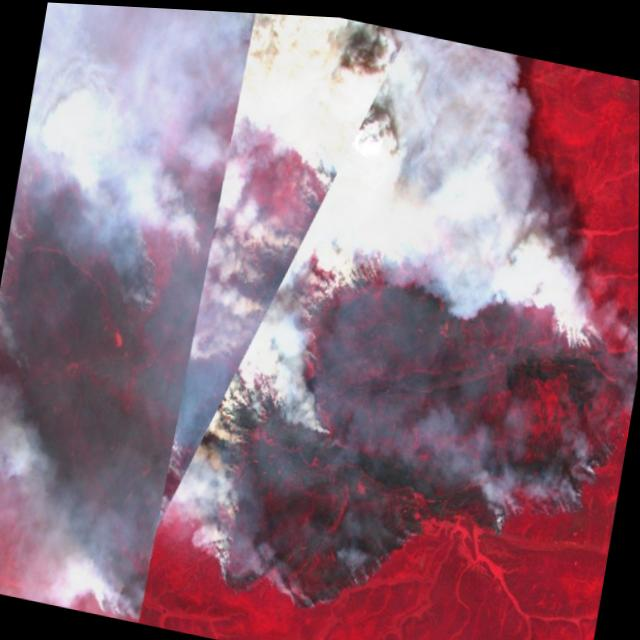fire: (206, 445, 436, 633), (458, 390, 623, 560), (288, 205, 410, 343), (269, 324, 358, 447), (0, 243, 57, 379), (116, 218, 175, 317), (71, 570, 162, 625), (544, 292, 611, 354)
